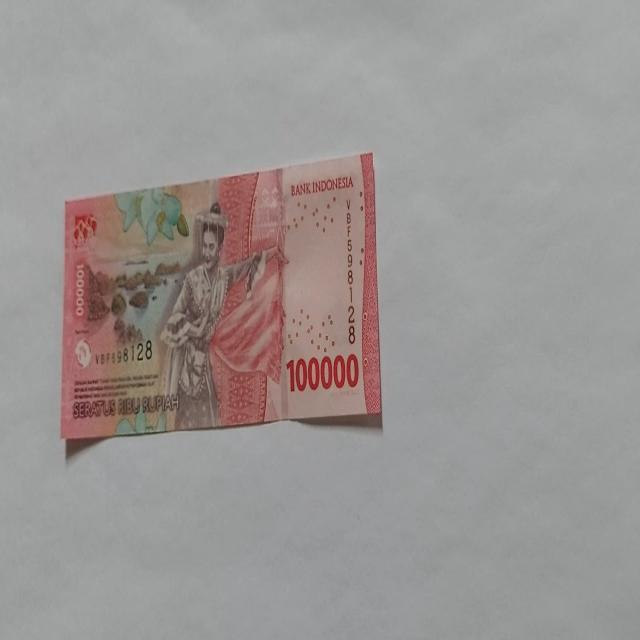seratus ribu rupiah: (60, 150, 382, 444), (158, 201, 268, 430)
